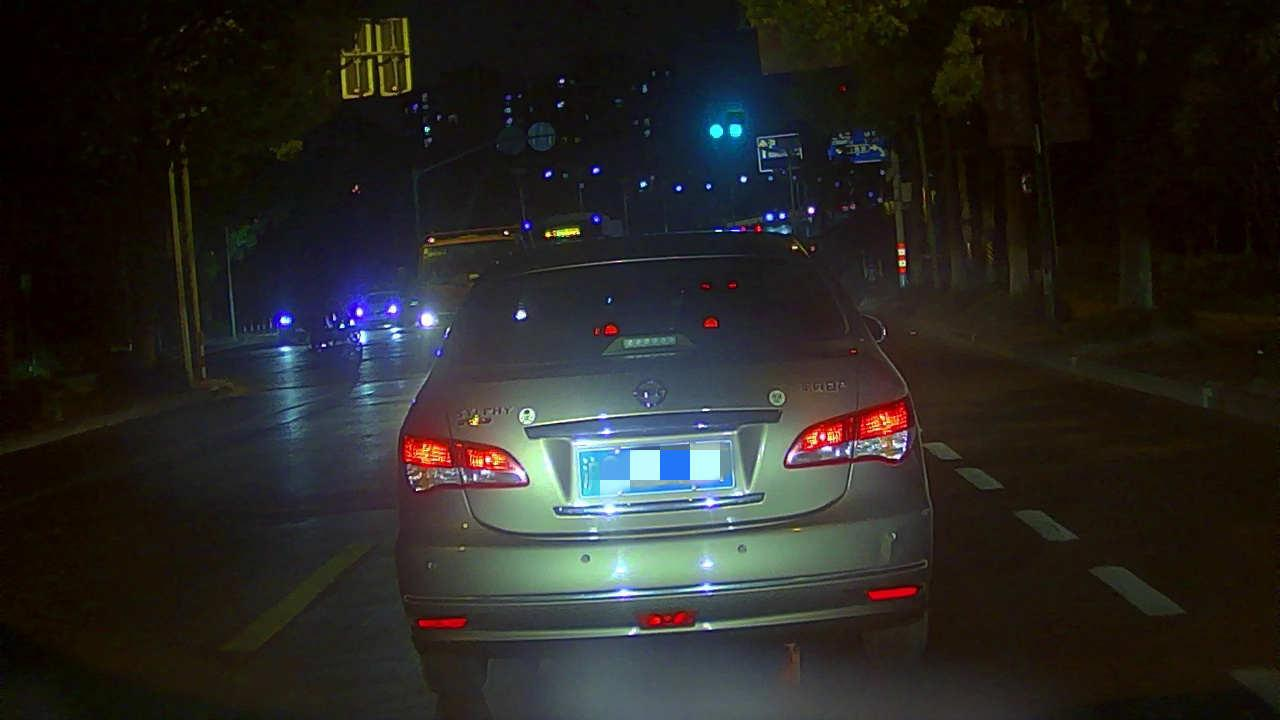traffic_light: (726, 120, 745, 142), (707, 121, 725, 141)
